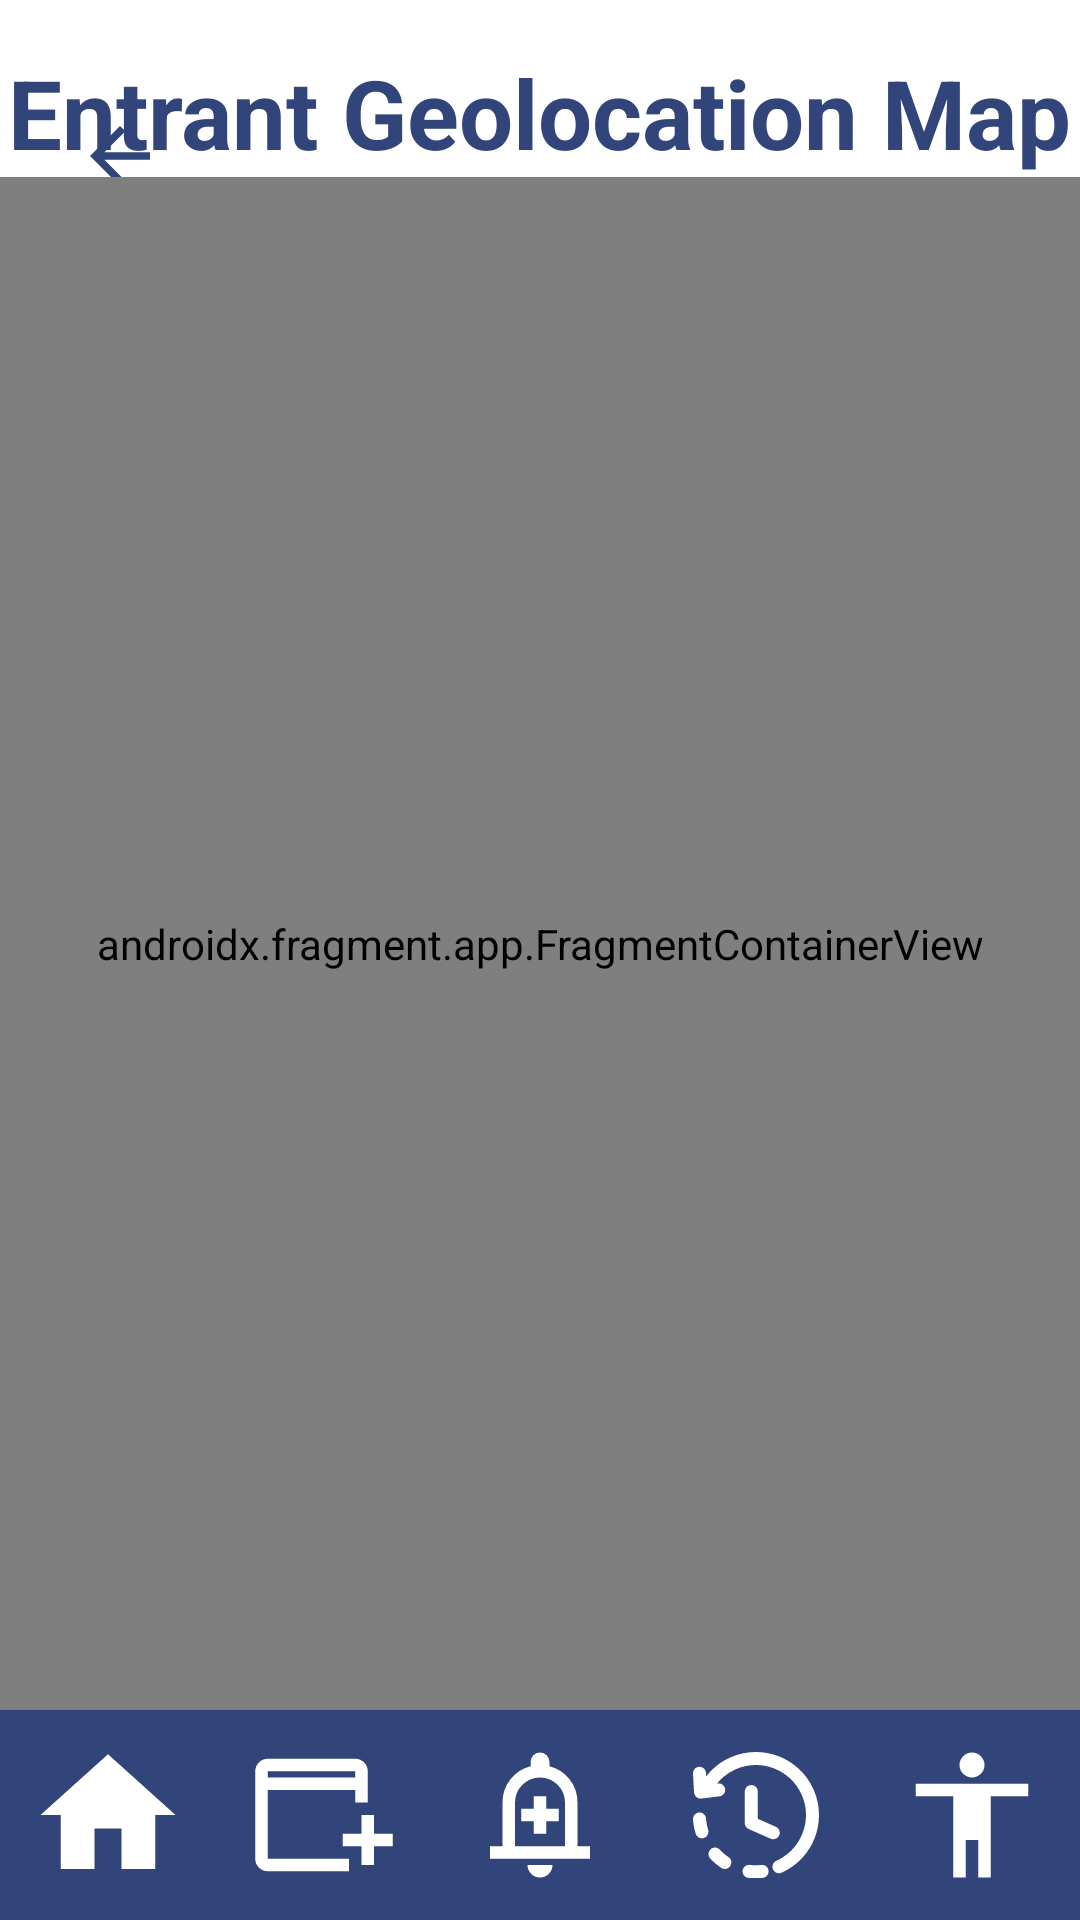

Icons on this 1080px x 1920px Android screen, each with its box as [x1, y1, x2, y2]:
event: [255, 1758, 393, 1872]
history: [693, 1752, 819, 1878]
home: [41, 1754, 175, 1869]
notification: [490, 1752, 590, 1878]
profile: [915, 1752, 1029, 1878]
